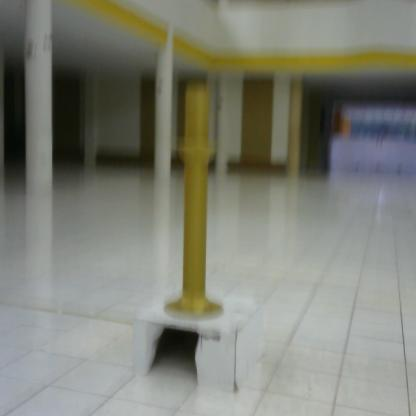pole: (157, 79, 230, 325)
